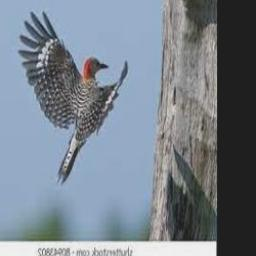Woodpecker: (17, 11, 128, 184)
